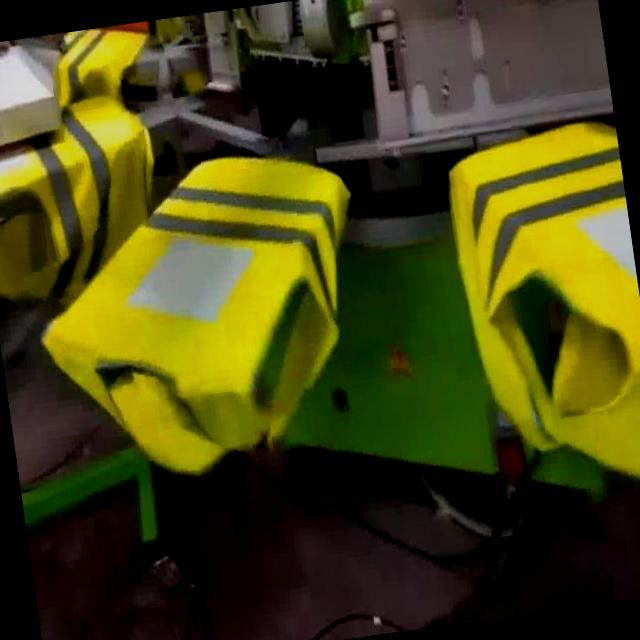vest: (18, 138, 387, 499), (438, 116, 640, 511), (0, 88, 172, 320), (52, 22, 154, 111)
